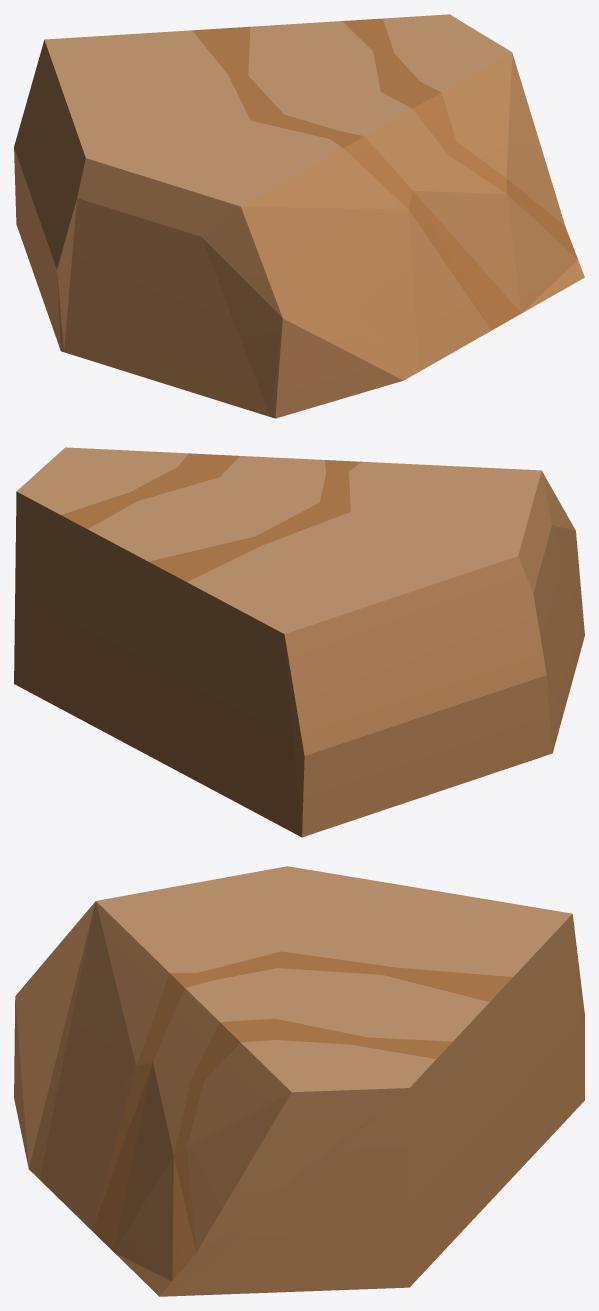
The model's file is ancient-stone-6.glb.
3 renders of one model, top to bottom at view 1: azimuth 30°, elevation 25°; view 2: azimuth 150°, elevation 25°; view 3: azimuth 270°, elevation 25°, orthographic. The views are drawn at different scales.
Parts seen in each view (by area): view 1: ancient stone 6; view 2: ancient stone 6; view 3: ancient stone 6.
Boxes of the visible parts, left/top/right/bottom form: ancient stone 6: left=14, top=14, right=584, bottom=418; ancient stone 6: left=14, top=447, right=584, bottom=837; ancient stone 6: left=14, top=866, right=584, bottom=1296.
Size of the model in its own units: 1.46 by 0.5458 by 1.42.
1 material, 1 textured.
